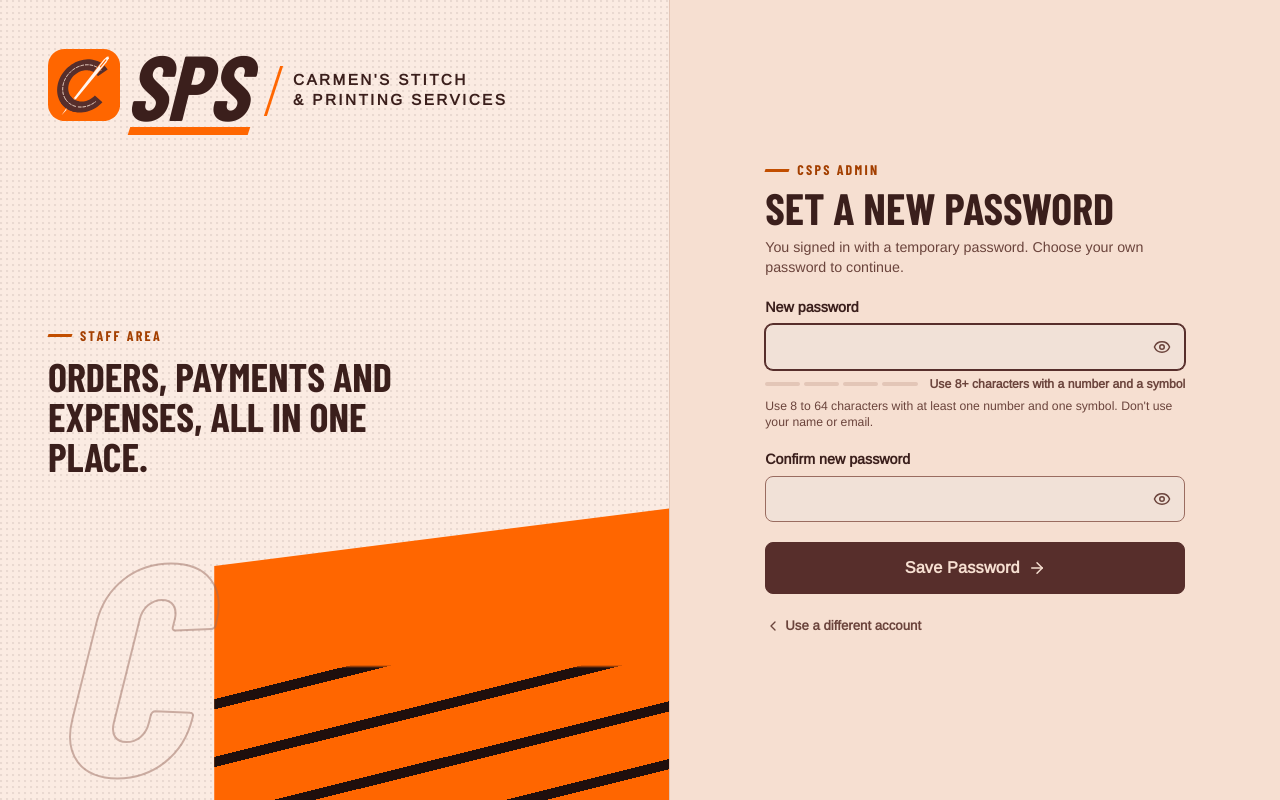
Scenario: S3 validation that mirrors the server (OR-3) › keeps the account email from the check out of the password
Type "Lito.Ramos#2026" into the password field labelled "New password" at (975, 347), box [766,325,1184,369]
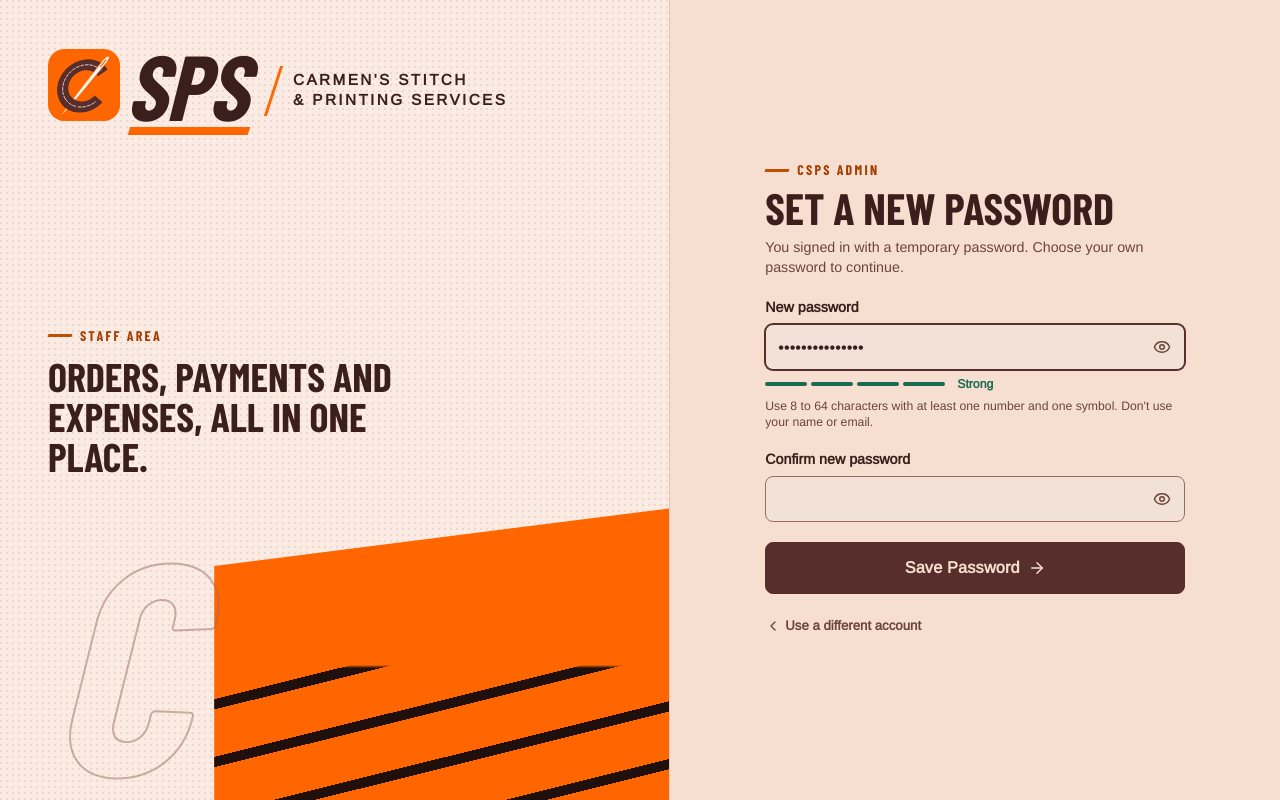
Type "Lito.Ramos#2026" into the password field labelled "Confirm new password" at (975, 499), box [766,477,1184,521]
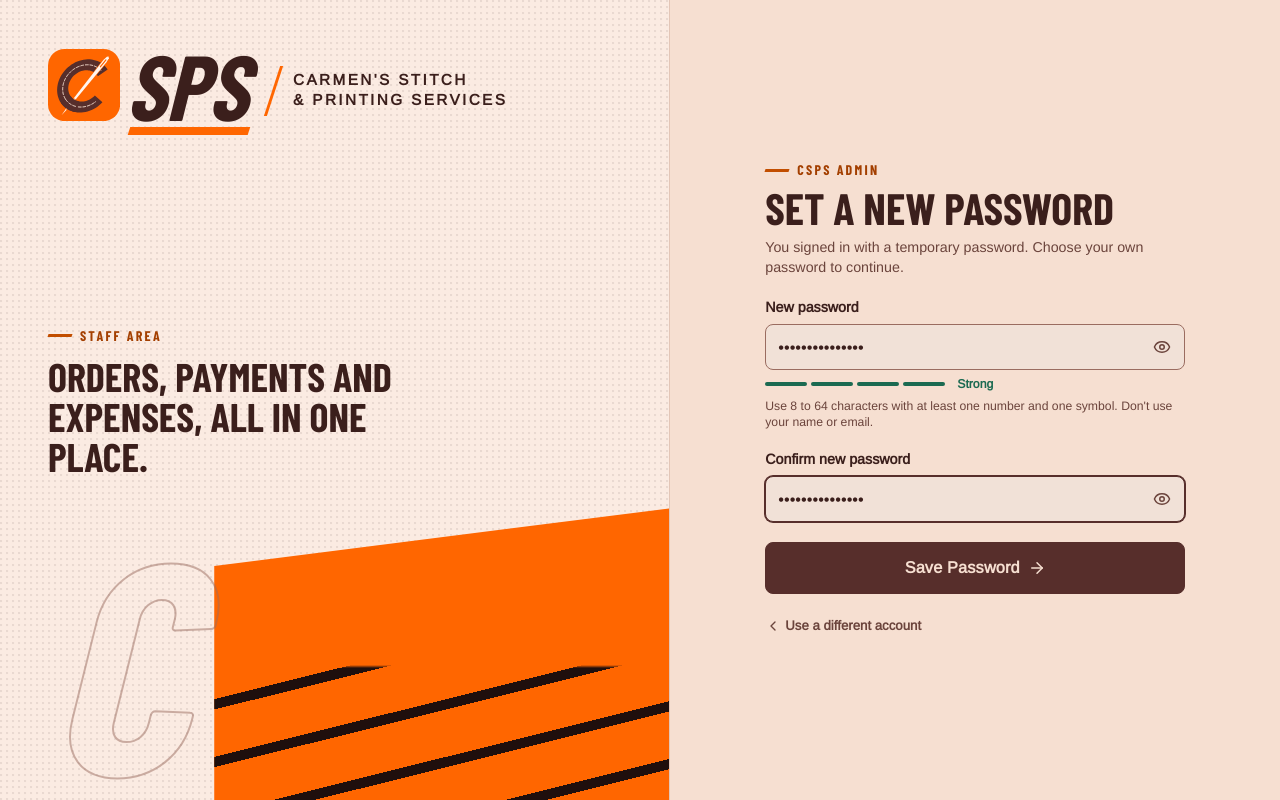
Click the button "Save Password" at (975, 568), box [765,542,1185,594]
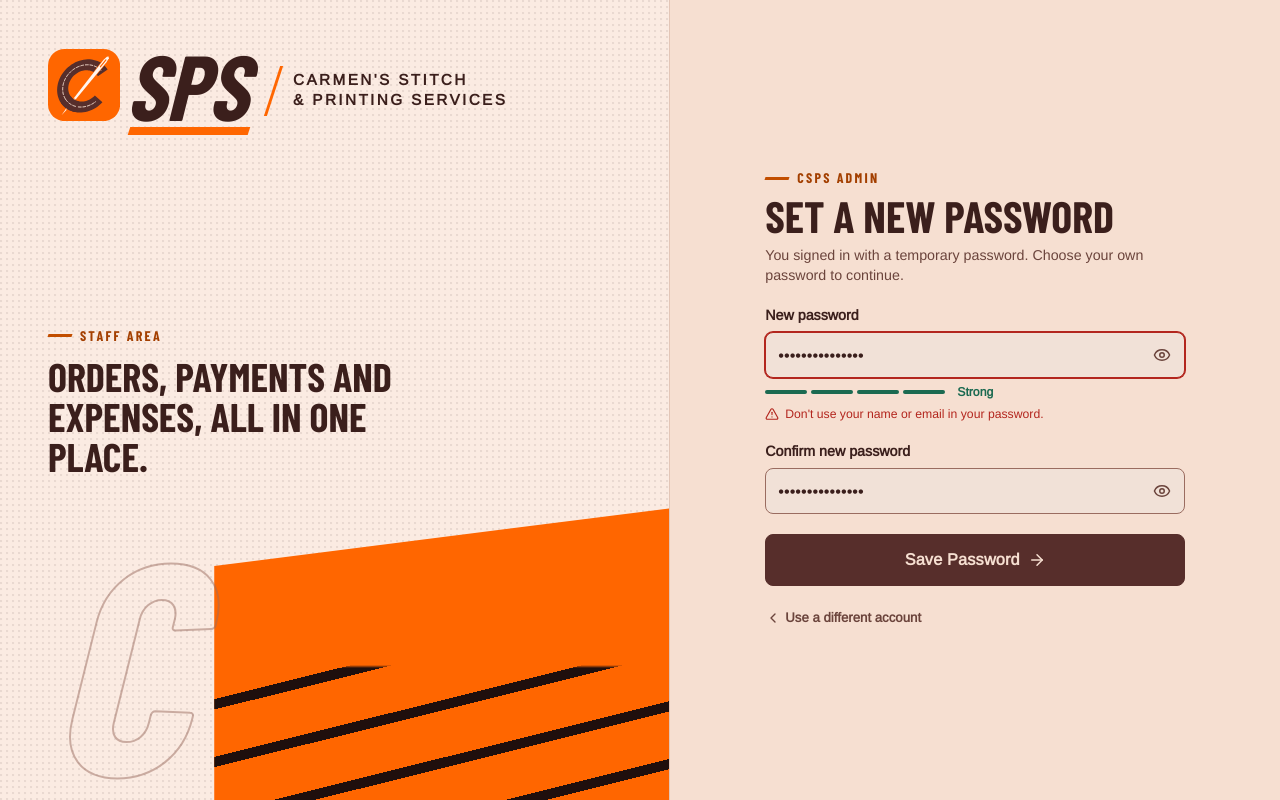
Now the text "Don't use your name or email in your password." is shown, box [765,407,1044,421]
